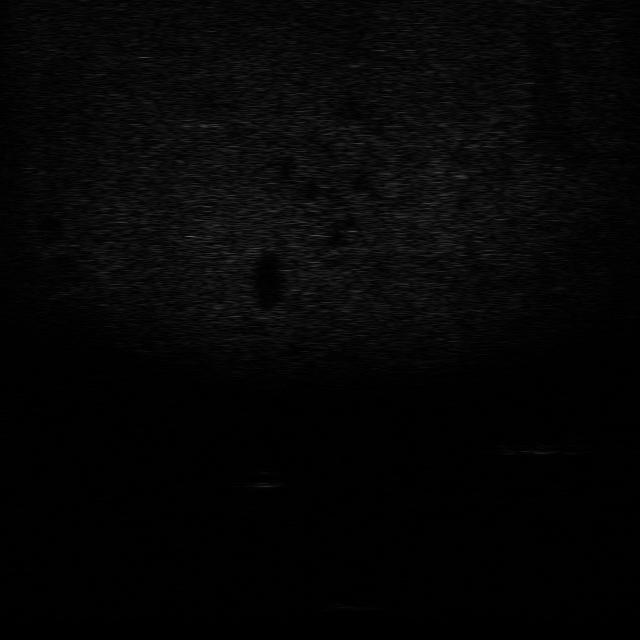ball: (241, 466, 289, 493)
human body: (484, 430, 591, 460)
